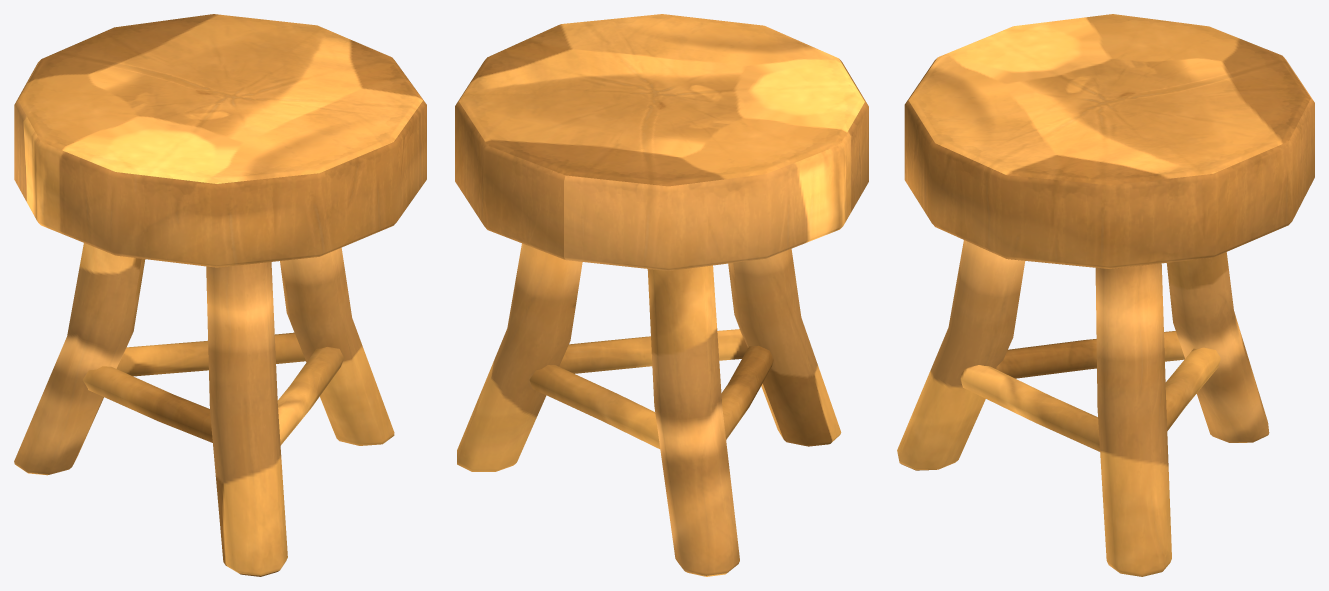
Rendered from SM_Bench.fbx.
3 views of the same model, side by side, from view 1: azimuth 30°, elevation 25°; view 2: azimuth 150°, elevation 25°; view 3: azimuth 270°, elevation 25° (orthographic).
Parts seen in each view (by area): view 1: SM_Bench_LOD0; view 2: SM_Bench_LOD0; view 3: SM_Bench_LOD0.
Part boxes in pixels (x1,y1,x2,y2): SM_Bench_LOD0: (14, 14, 426, 576); SM_Bench_LOD0: (455, 14, 868, 576); SM_Bench_LOD0: (897, 14, 1314, 576).
Bounding box in the file's own units: 36.86 × 36.22 × 37.17.
